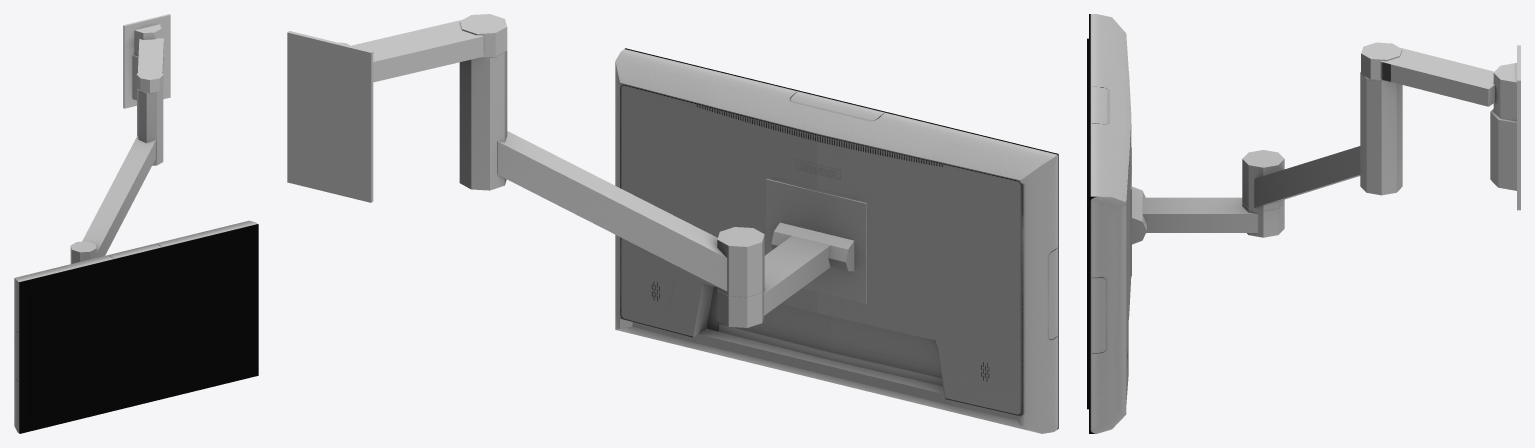
The model's file is UTC_320ar.fbx.
3 views of the same model, side by side, from view 1: azimuth 30°, elevation 25°; view 2: azimuth 150°, elevation 25°; view 3: azimuth 270°, elevation 25° (orthographic). The views are drawn at different scales.
Visible parts, largest first — view 1: C, A, E, F, B; view 2: B, E, F, D, A; view 3: B, E, F, D, A, C.
Boxes of the visible parts, x1,y1,x2,y2 form: C: (29,238,249,420); A: (19,224,258,433); E: (70,88,163,263); F: (123,14,170,108); B: (14,220,257,432); B: (615,49,1057,433); E: (459,51,764,296); F: (287,14,507,202); D: (717,178,866,327); A: (625,48,1058,428); B: (1090,14,1131,433); E: (1242,72,1402,210); F: (1361,42,1520,210); D: (1130,147,1284,276); A: (1089,14,1090,433); C: (1087,38,1088,409).
Bounding box in the file's own units: 62.61 × 51.85 × 52.21.
Materials: 6 (4 with a texture image).
